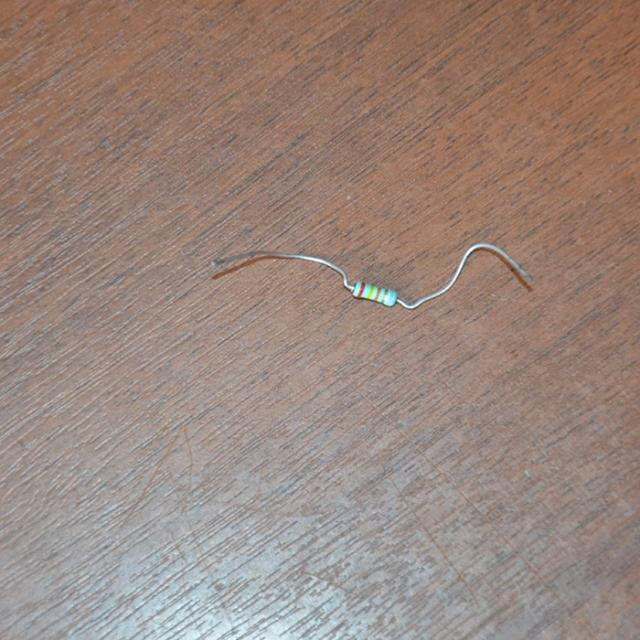gold: (383, 290, 390, 304)
orange: (376, 287, 381, 300)
red: (358, 284, 364, 297)
resistor: (346, 274, 406, 313)
yellow: (367, 285, 374, 298)
